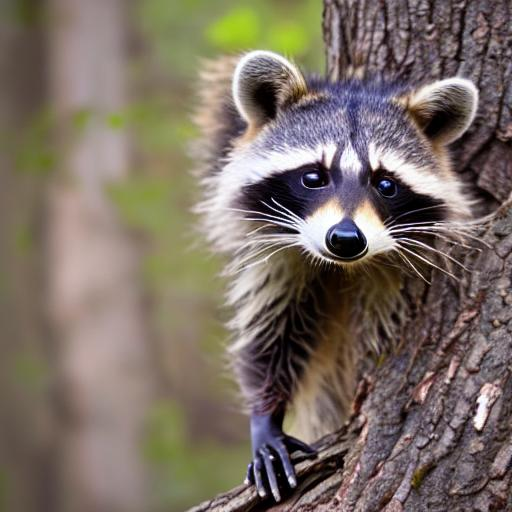raccoon: (179, 43, 494, 392)
